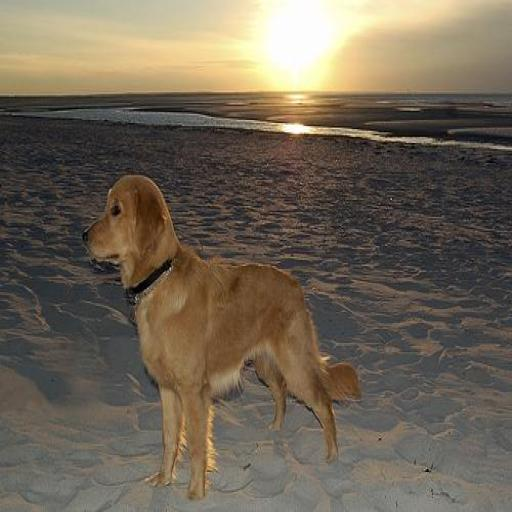dog_face: (84, 171, 168, 270)
